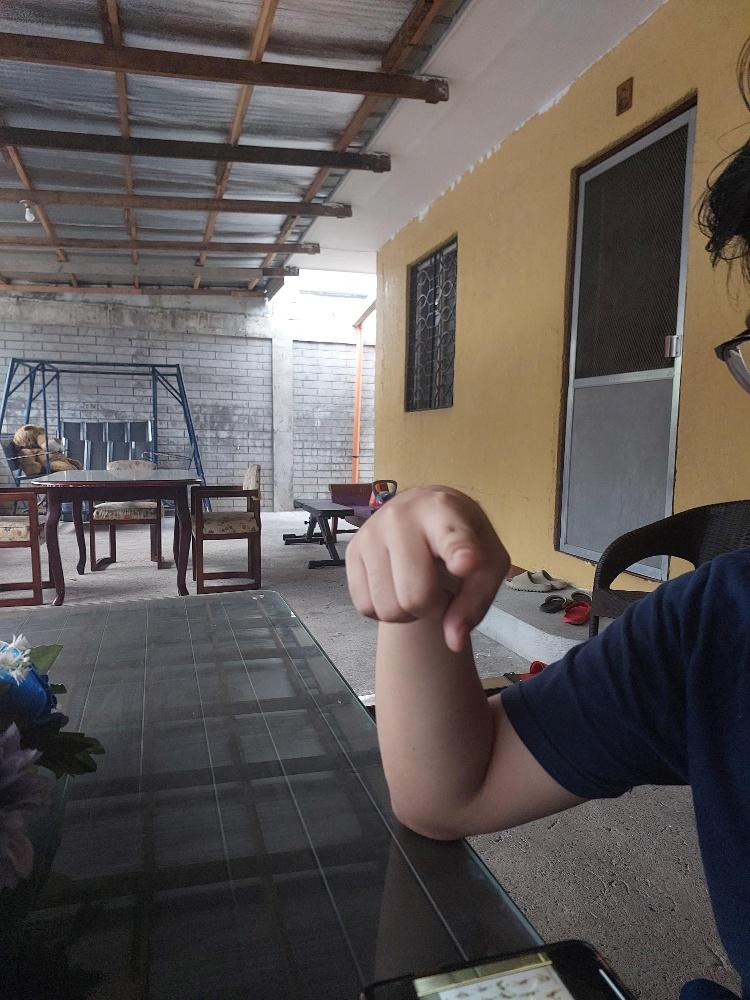z: (343, 479, 514, 655)
